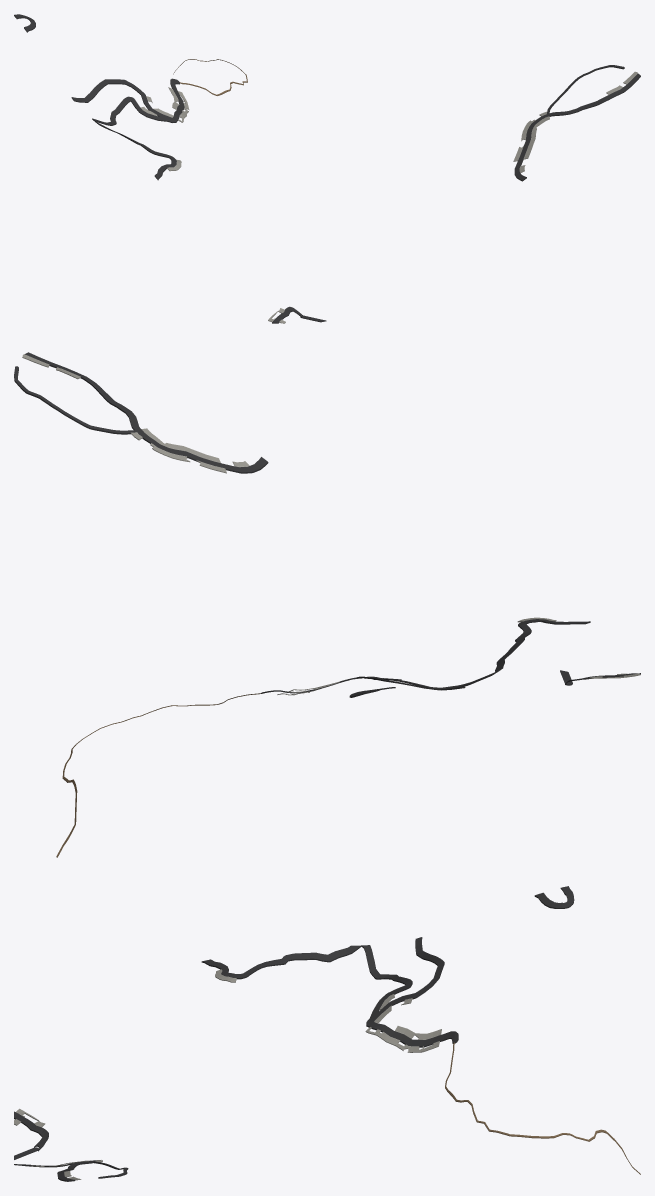
3 views of the same model, one above another, from view 1: azimuth 30°, elevation 25°; view 2: azimuth 150°, elevation 25°; view 3: azimuth 270°, elevation 25° (orthographic). The views are drawn at different scales.
Size of the model in its own units: 587 by 221 by 583.
